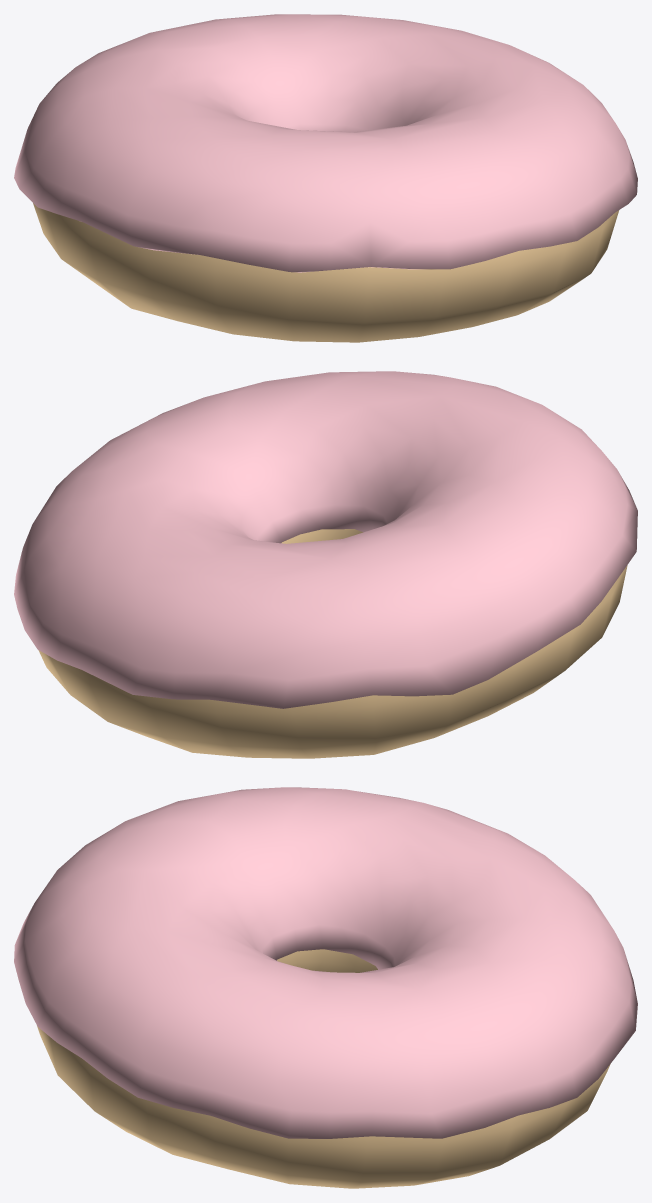
Rendered from DonutL.glb.
3 renders of one model, top to bottom at view 1: azimuth 30°, elevation 25°; view 2: azimuth 150°, elevation 25°; view 3: azimuth 270°, elevation 25°, orthographic.
Parts seen in each view (by area): view 1: DonutL; view 2: DonutL; view 3: DonutL.
Boxes of the visible parts, x1,y1,x2,y2 form: DonutL: (14, 14, 637, 342); DonutL: (14, 371, 637, 758); DonutL: (14, 787, 637, 1188).
Size of the model in its own units: 0.5792 by 0.2324 by 0.5787.
